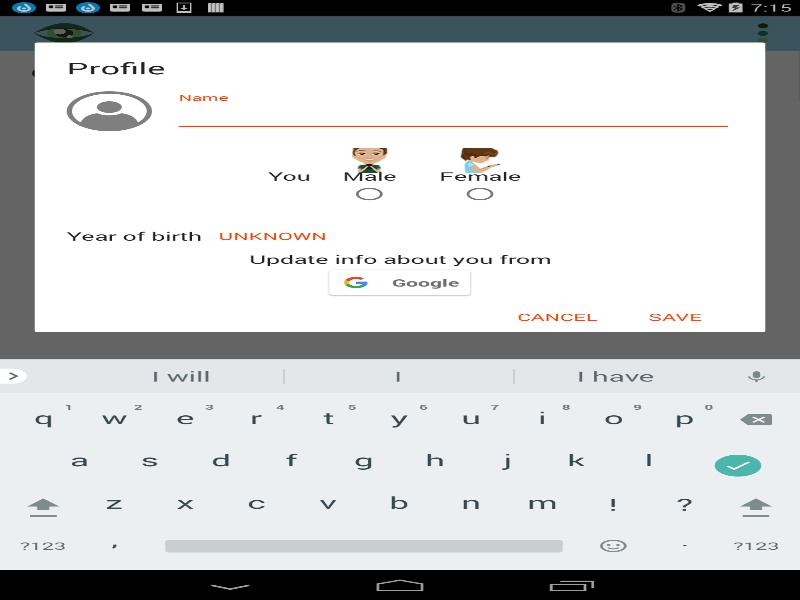Button: (202, 221, 733, 251), (324, 267, 475, 297), (498, 302, 616, 332), (616, 302, 733, 332)
Input: (173, 100, 733, 131)
